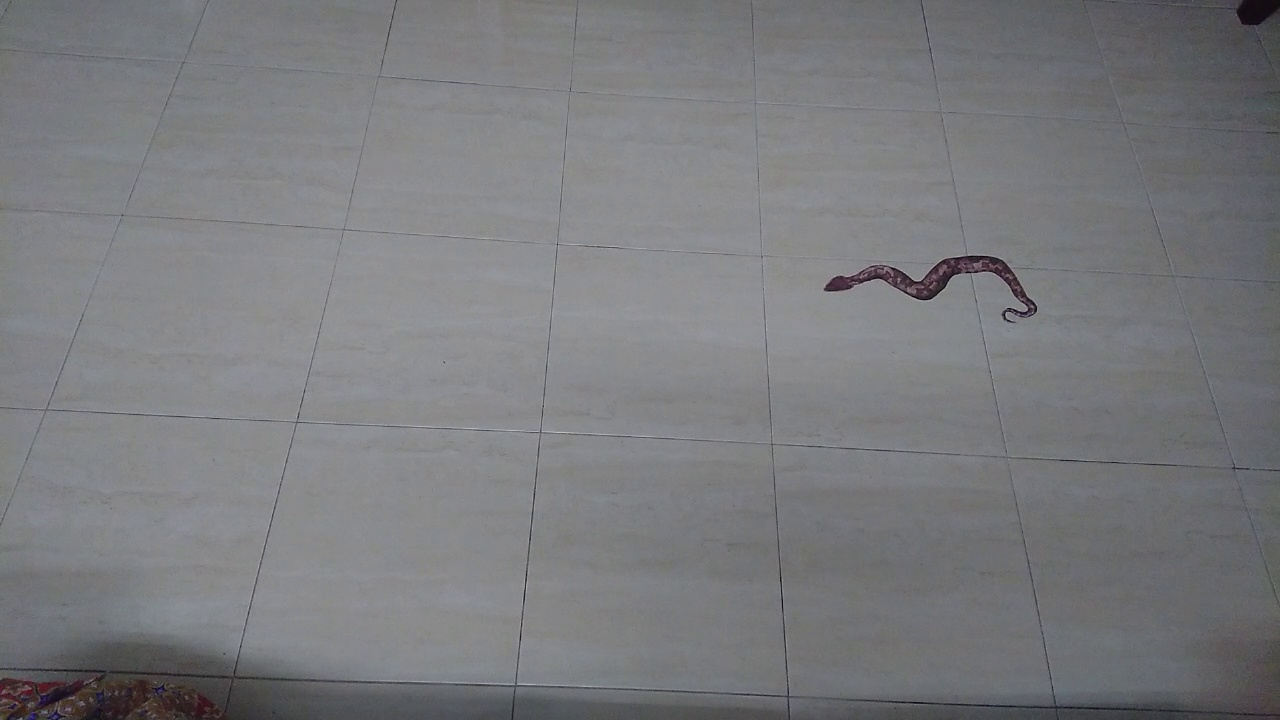snake: (807, 240, 1055, 341)
